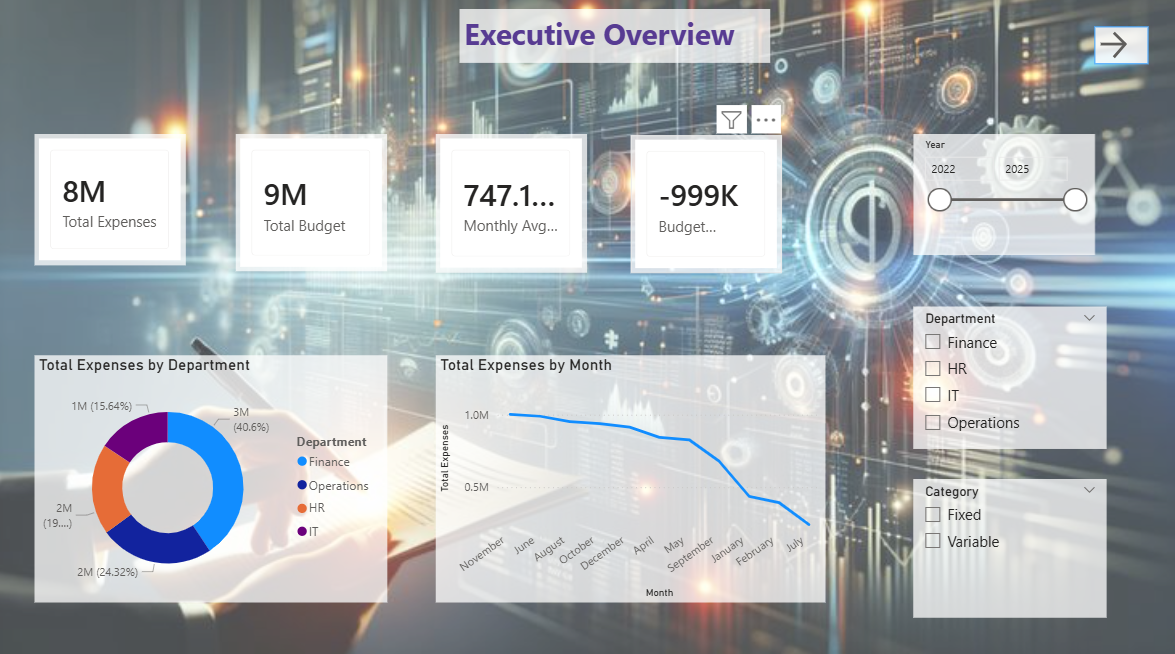

The dashboard page shown, as its layout file describes it:
{"tool":"powerbi","page":{"name":"Executive Overview","canvas":[1280,720],"ordinal":0},"visuals":[{"type":"cardVisual","fields":{"Data":["Financial_Expense_Optimization_50Rows.Total Expenses"]},"box":[40.6,151.7,163.9,142.3],"z":0},{"type":"cardVisual","fields":{"Data":["Financial_Expense_Optimization_50Rows.Total Budget"]},"box":[258.8,151.7,163.9,149],"z":1000},{"type":"cardVisual","fields":{"Data":["Financial_Expense_Optimization_50Rows.Budget Variance"]},"box":[686.9,153.1,163.9,149],"z":2000},{"type":"cardVisual","fields":{"Data":["Financial_Expense_Optimization_50Rows.Monthly Avg Expense"]},"box":[475.5,151.7,163.9,150.4],"z":3000},{"type":"donutChart","fields":{"Category":["Financial_Expense_Optimization_50Rows.Department"],"Y":["Financial_Expense_Optimization_50Rows.Total Expenses"]},"box":[40.6,391.5,382.1,268.2],"z":4000},{"type":"lineChart","fields":{"Category":["Financial_Expense_Optimization_50Rows.Month"],"Y":["Financial_Expense_Optimization_50Rows.Total Expenses"]},"box":[475.5,391.5,422.7,268.2],"z":5000},{"type":"slicer","fields":{"Values":["Financial_Expense_Optimization_50Rows.Year"]},"box":[993.1,151.7,196.4,131.4],"z":6000},{"type":"slicer","fields":{"Values":["Financial_Expense_Optimization_50Rows.Department"]},"box":[993.1,338.7,210,154.4],"z":7000},{"type":"slicer","fields":{"Values":["Financial_Expense_Optimization_50Rows.Category"]},"box":[993.1,525.7,210,150.4],"z":8000},{"type":"actionButton","box":[1189.7,34.8,58.5,40.4],"z":8001},{"type":"textbox","box":[501.5,16.7,337.1,58.5],"z":8002}]}

Visuals, with their boxes in screenshot pixels (x1, y1, x2, y2), scaled from the page's 1280x720 canvas onto the 1175x654 screenshot:
cardVisual - Financial_Expense_Optimization_50Rows.Total Expenses: {"left": 37, "top": 138, "right": 188, "bottom": 267}
cardVisual - Financial_Expense_Optimization_50Rows.Total Budget: {"left": 238, "top": 138, "right": 388, "bottom": 273}
cardVisual - Financial_Expense_Optimization_50Rows.Budget Variance: {"left": 631, "top": 139, "right": 781, "bottom": 274}
cardVisual - Financial_Expense_Optimization_50Rows.Monthly Avg Expense: {"left": 436, "top": 138, "right": 587, "bottom": 274}
donutChart - Financial_Expense_Optimization_50Rows.Department x Financial_Expense_Optimization_50Rows.Total Expenses: {"left": 37, "top": 356, "right": 388, "bottom": 599}
lineChart - Financial_Expense_Optimization_50Rows.Month x Financial_Expense_Optimization_50Rows.Total Expenses: {"left": 436, "top": 356, "right": 825, "bottom": 599}
slicer - Financial_Expense_Optimization_50Rows.Year: {"left": 912, "top": 138, "right": 1092, "bottom": 257}
slicer - Financial_Expense_Optimization_50Rows.Department: {"left": 912, "top": 308, "right": 1104, "bottom": 448}
slicer - Financial_Expense_Optimization_50Rows.Category: {"left": 912, "top": 478, "right": 1104, "bottom": 614}
actionButton: {"left": 1092, "top": 32, "right": 1146, "bottom": 68}
textbox: {"left": 460, "top": 15, "right": 770, "bottom": 68}
